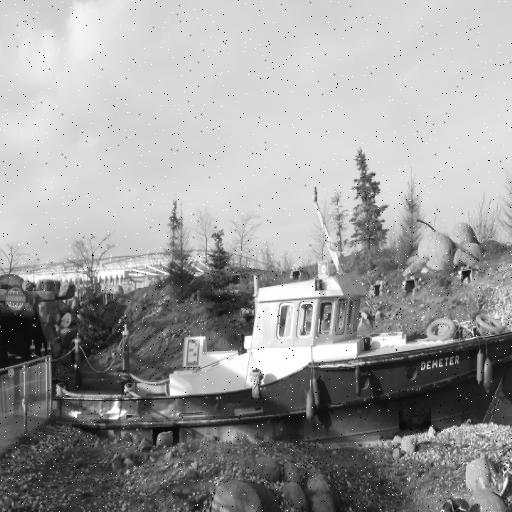tugboat: (46, 183, 512, 462)
